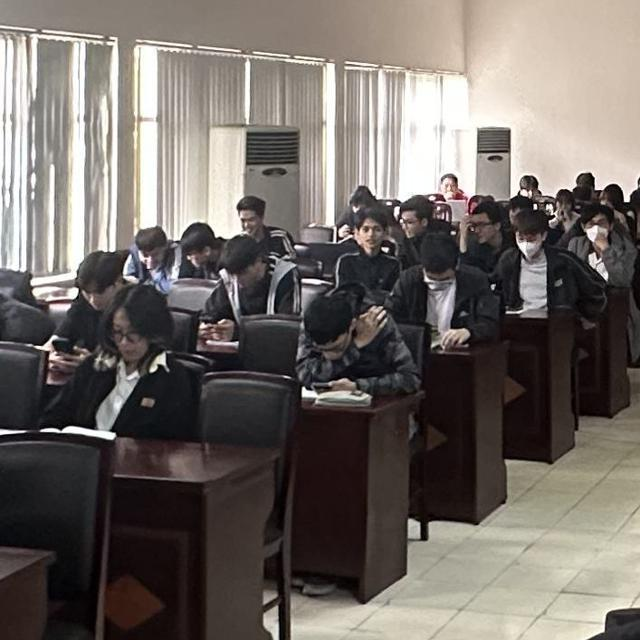Looking away: (178, 220, 214, 269), (400, 198, 432, 240), (472, 203, 504, 245), (136, 225, 166, 268), (518, 215, 546, 257), (238, 200, 262, 235)
Looking forward: (580, 207, 609, 244), (360, 212, 385, 254), (554, 190, 573, 215), (442, 176, 456, 196)
Phone use: (292, 284, 423, 402), (40, 254, 148, 366), (196, 238, 296, 348)
Reading-writing: (32, 291, 184, 448), (388, 240, 498, 344)
